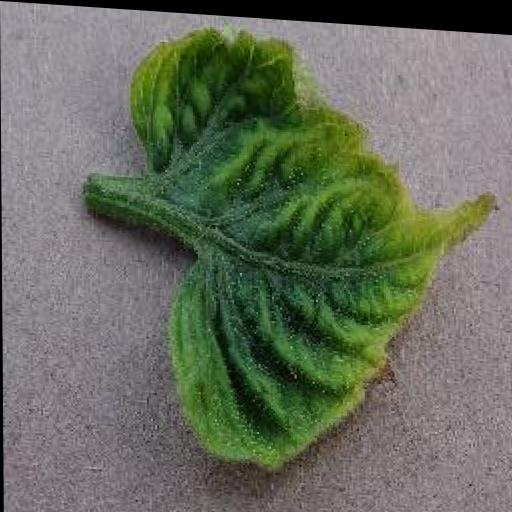Yellow Leaf Curl Virus: (127, 16, 499, 474)
